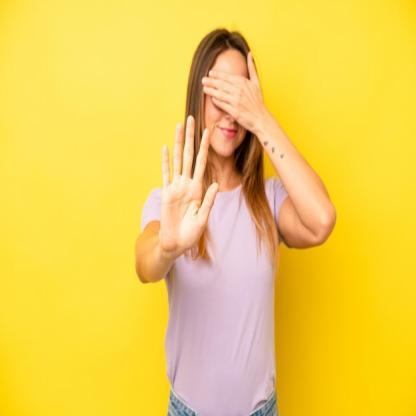stop: (158, 111, 222, 253)
